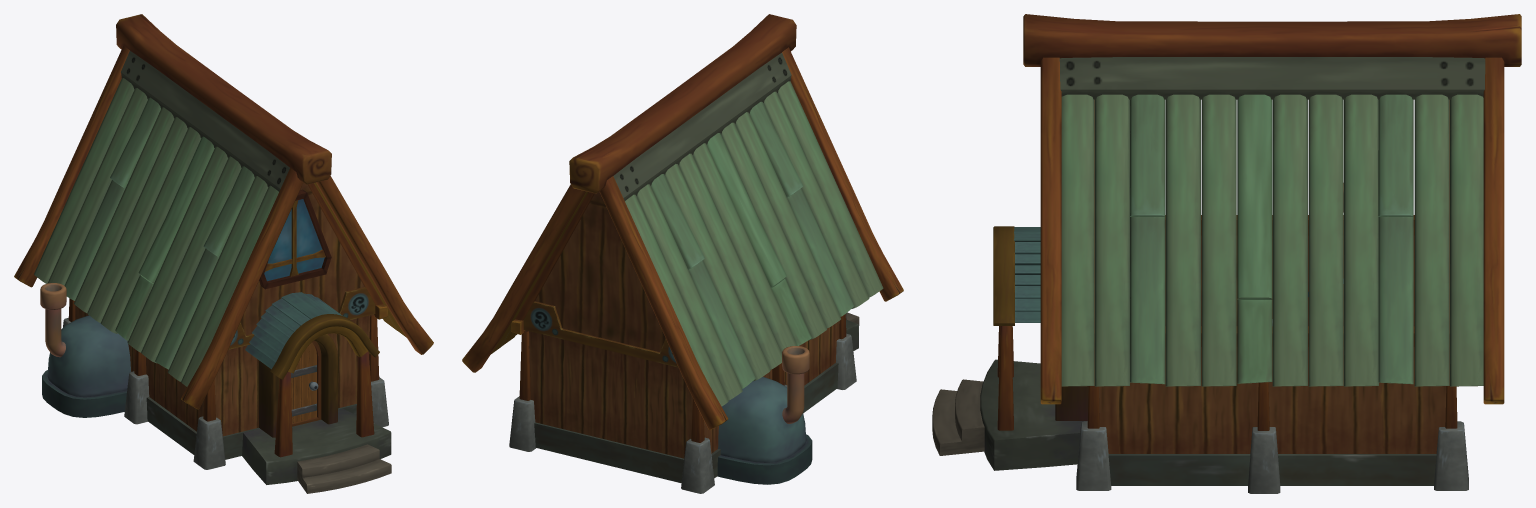
The model's file is IGN_Diorama_House.glb.
The picture shows the model from 3 angles, left to right: view 1: azimuth 30°, elevation 25°; view 2: azimuth 150°, elevation 25°; view 3: azimuth 270°, elevation 25°; orthographic projection. The views are drawn at different scales.
Parts seen in each view (by area): view 1: IGN_Roof_Side_Left, IGN_Roof_Ridge_Beam, IGN_Oven_System, IGN_Porch, IGN_Porch_Roof, IGN_Roof_Flashing_Left, IGN_Wall_Front, IGN_Roof_Rafter_02, IGN_Wooden door cluster, IGN_Gable_Front, IGN_Window, IGN_Roof_Rafter_01 (+10 smaller); view 2: IGN_Roof_Side_Left, IGN_Wall_Back, IGN_Gable_Back, IGN_Roof_Ridge_Beam, IGN_Oven_System, IGN_Roof_Flashing_Left, IGN_Roof_Rafter_04, IGN_Floor_Base, IGN_Roof_Rafter_03, IGN_Roof_Rafter_02, IGN_Roof_Beam_Back, IGN_Column_Main_05 (+4 smaller); view 3: IGN_Roof_Side_Right, IGN_Wall_Right, IGN_Roof_Ridge_Beam, IGN_Roof_Flashing_Right, IGN_Porch, IGN_Floor_Base, IGN_Roof_Rafter_01, IGN_Roof_Rafter_03, IGN_Porch_Roof, IGN_Column_Main_01, IGN_Column_Main_06, IGN_Column_Main_03 (+3 smaller).
Boxes of the visible parts, x1=… form: IGN_Roof_Side_Left: x1=34, y1=78, x2=278, y2=386; IGN_Roof_Ridge_Beam: x1=116, y1=14, x2=331, y2=184; IGN_Oven_System: x1=40, y1=283, x2=130, y2=417; IGN_Porch: x1=242, y1=408, x2=391, y2=493; IGN_Porch_Roof: x1=245, y1=292, x2=379, y2=379; IGN_Roof_Flashing_Left: x1=121, y1=51, x2=289, y2=191; IGN_Wall_Front: x1=214, y1=314, x2=373, y2=436; IGN_Roof_Rafter_02: x1=181, y1=168, x2=302, y2=409; IGN_Wooden door cluster: x1=259, y1=334, x2=337, y2=437; IGN_Gable_Front: x1=240, y1=183, x2=383, y2=335; IGN_Window: x1=259, y1=189, x2=331, y2=289; IGN_Roof_Rafter_01: x1=316, y1=176, x2=433, y2=354; IGN_Roof_Side_Left: x1=625, y1=81, x2=883, y2=406; IGN_Wall_Back: x1=525, y1=330, x2=692, y2=458; IGN_Gable_Back: x1=515, y1=192, x2=665, y2=351; IGN_Roof_Ridge_Beam: x1=569, y1=14, x2=796, y2=193; IGN_Oven_System: x1=717, y1=346, x2=812, y2=484; IGN_Roof_Flashing_Left: x1=613, y1=53, x2=791, y2=200; IGN_Roof_Rafter_04: x1=599, y1=176, x2=728, y2=430; IGN_Floor_Base: x1=534, y1=363, x2=838, y2=483; IGN_Roof_Rafter_03: x1=462, y1=184, x2=585, y2=372; IGN_Roof_Rafter_02: x1=782, y1=47, x2=903, y2=301; IGN_Roof_Beam_Back: x1=523, y1=301, x2=678, y2=367; IGN_Column_Main_05: x1=681, y1=398, x2=714, y2=493; IGN_Roof_Side_Right: x1=1061, y1=94, x2=1483, y2=386; IGN_Wall_Right: x1=1099, y1=347, x2=1446, y2=453; IGN_Roof_Ridge_Beam: x1=1023, y1=14, x2=1521, y2=66; IGN_Roof_Flashing_Right: x1=1059, y1=57, x2=1485, y2=99; IGN_Porch: x1=932, y1=359, x2=1087, y2=470; IGN_Floor_Base: x1=1108, y1=454, x2=1436, y2=485; IGN_Roof_Rafter_01: x1=1040, y1=57, x2=1061, y2=404; IGN_Roof_Rafter_03: x1=1483, y1=57, x2=1504, y2=404; IGN_Porch_Roof: x1=993, y1=226, x2=1040, y2=325; IGN_Column_Main_01: x1=1076, y1=347, x2=1111, y2=490; IGN_Column_Main_06: x1=1434, y1=347, x2=1468, y2=490; IGN_Column_Main_03: x1=1248, y1=382, x2=1280, y2=493.
Bounding box in the file's own units: 40.38 × 43.51 × 56.7.
1 material, 1 textured.
